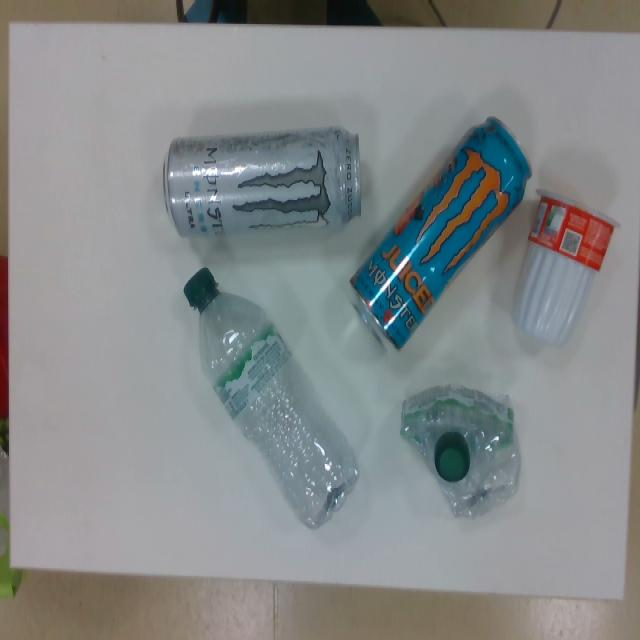aluminum: (347, 111, 536, 357), (162, 130, 364, 240)
plastic: (181, 260, 360, 538), (512, 175, 620, 363), (399, 379, 524, 518)
